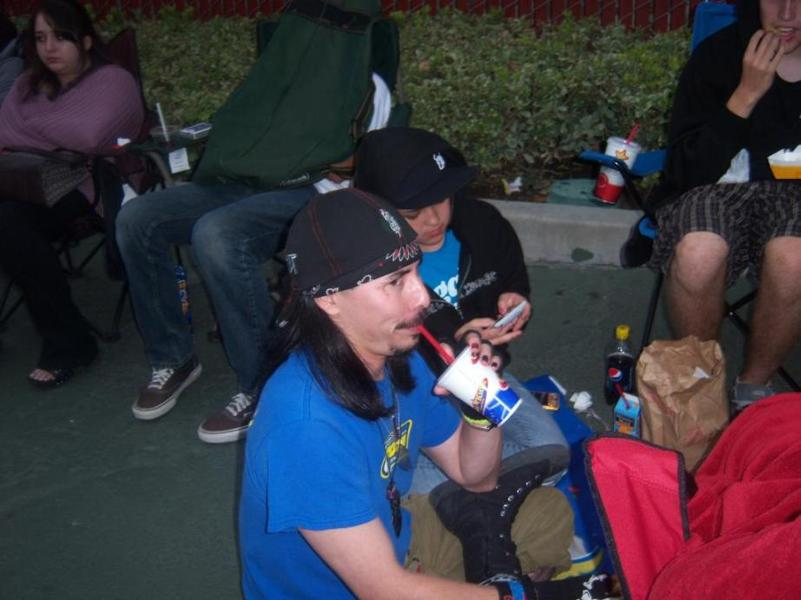person: (237, 189, 542, 599)
